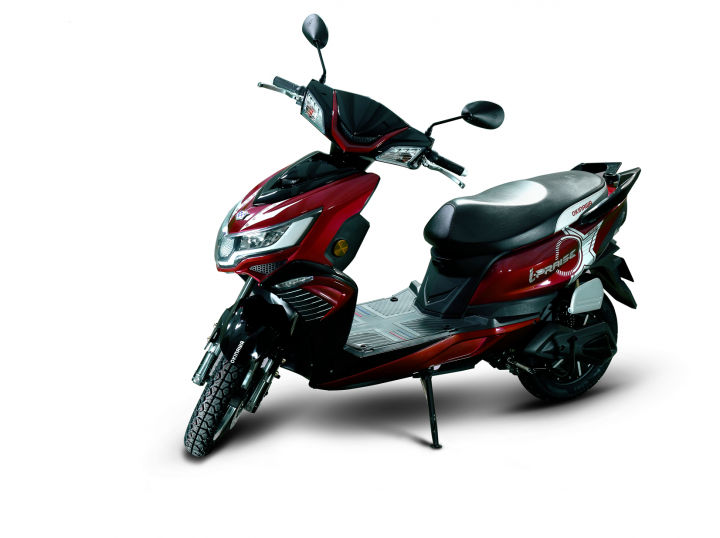Bike: (173, 65, 644, 454)
